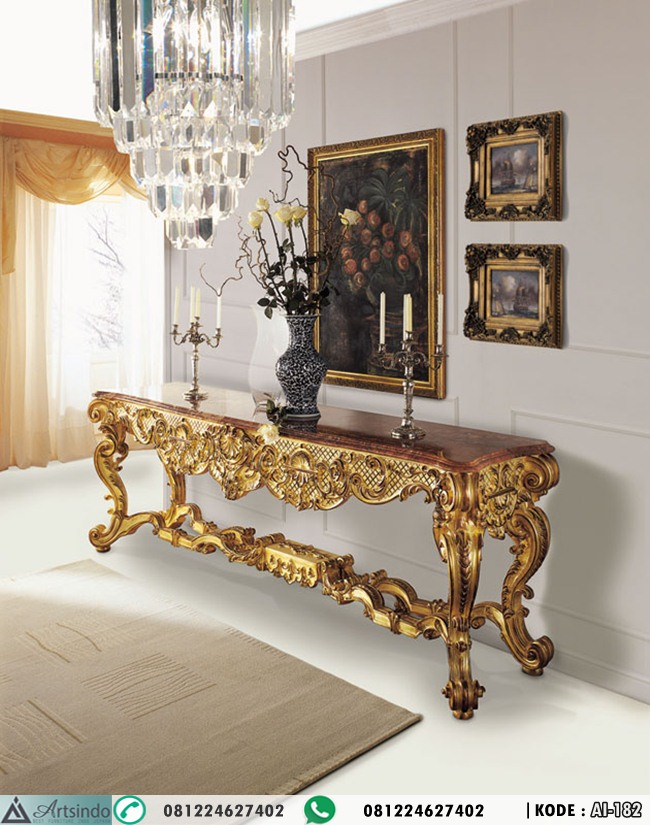Carving Table: (76, 367, 554, 716)
